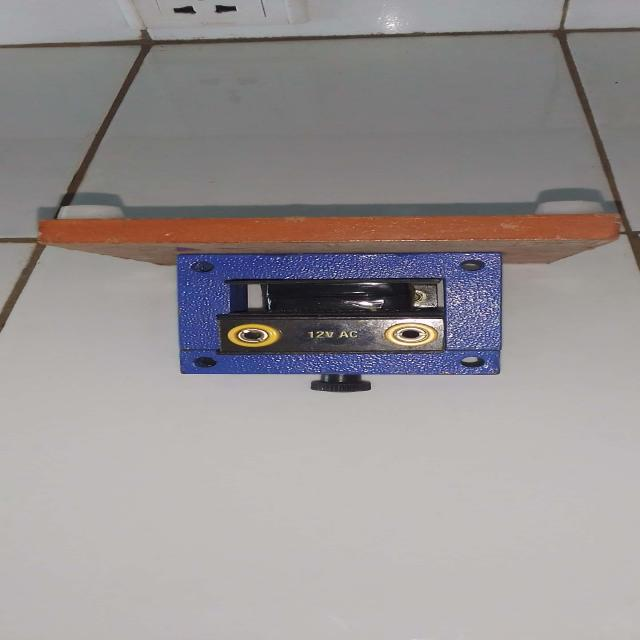Transformer Demo: (29, 178, 630, 404)
